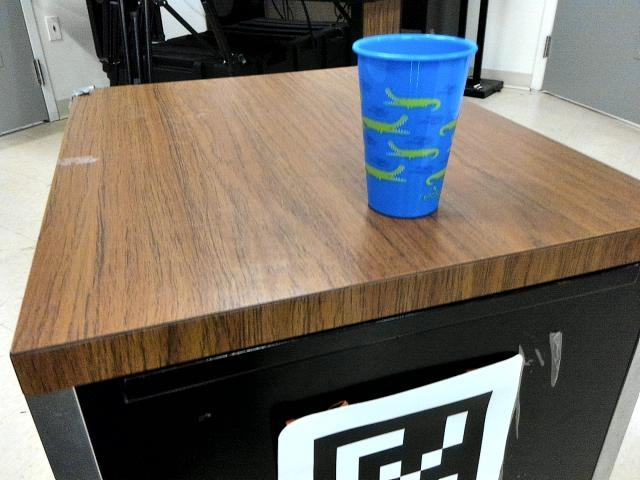water_cup: (344, 30, 482, 224)
